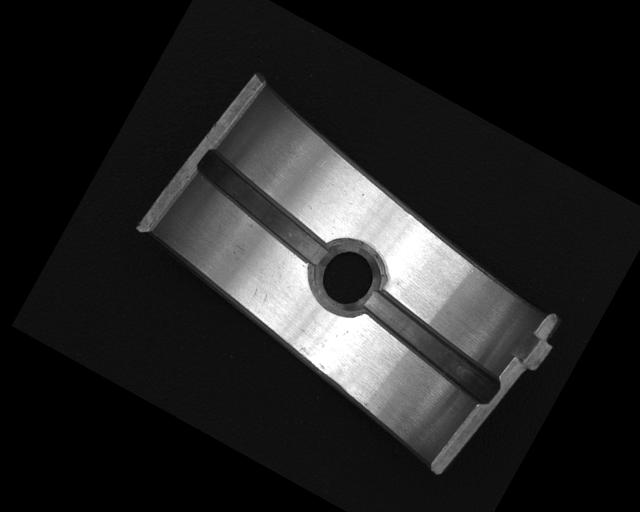gap: (348, 285, 512, 407), (182, 147, 344, 270)
hole: (300, 231, 390, 324)
